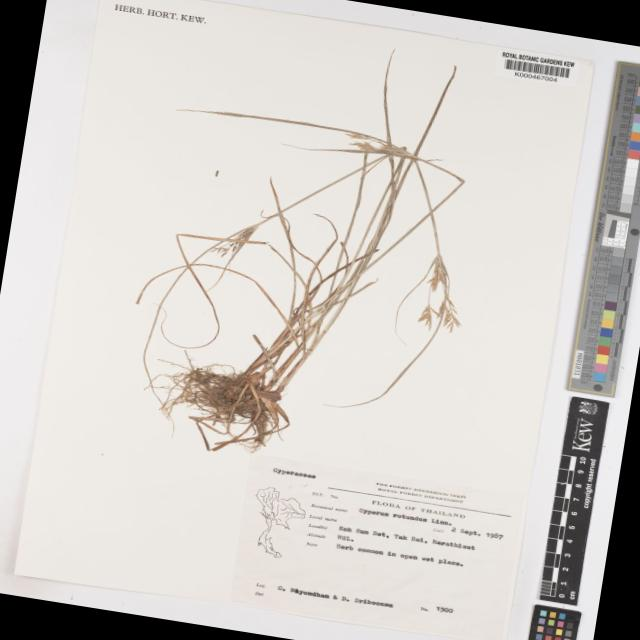cyperus: (396, 242, 498, 350)
